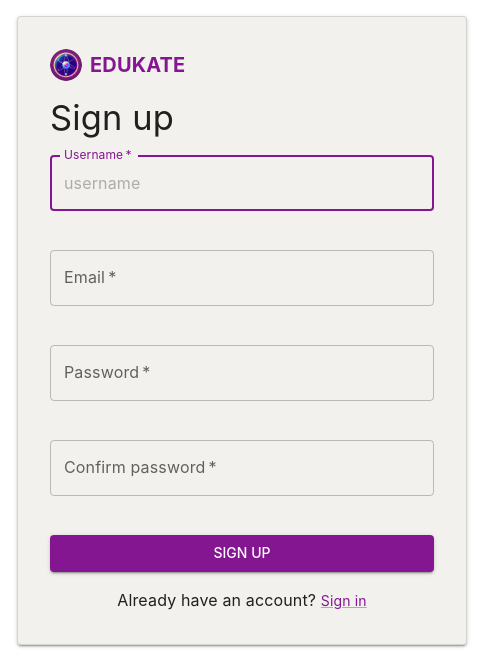
Test: SignUpForm › shows do not match error on submit when passwords differ
Type "alice01" into the field labelled "Username *" at (242, 184), box [50,156,434,212]
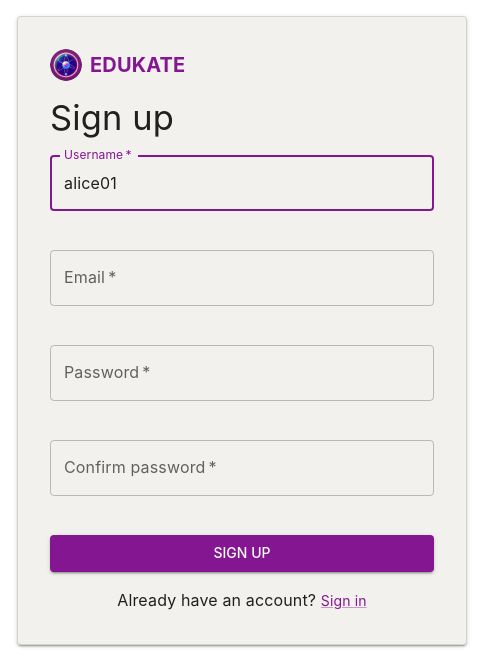
Type "alice@example.com" into the field labelled "Email *" at (242, 278), box [50,250,434,306]
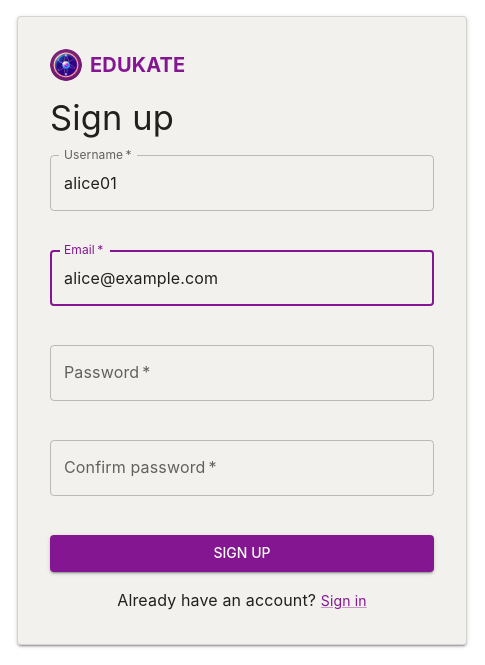
Type "secret123" into the password field labelled "Password *" at (242, 373), box [50,345,434,401]
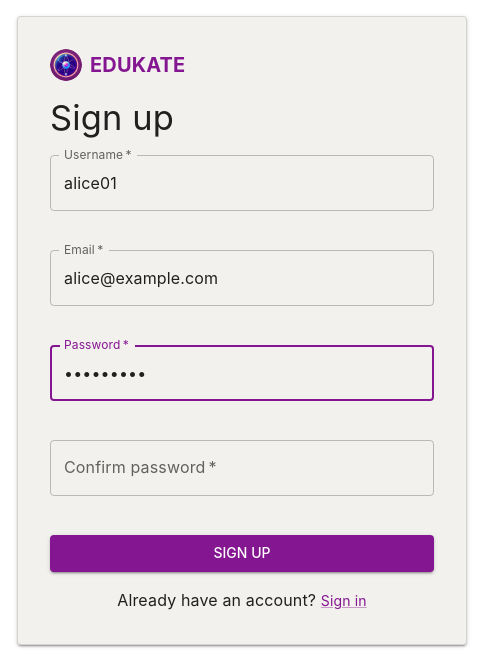
Type "different" into the password field labelled "Confirm password *" at (242, 468), box [50,440,434,496]
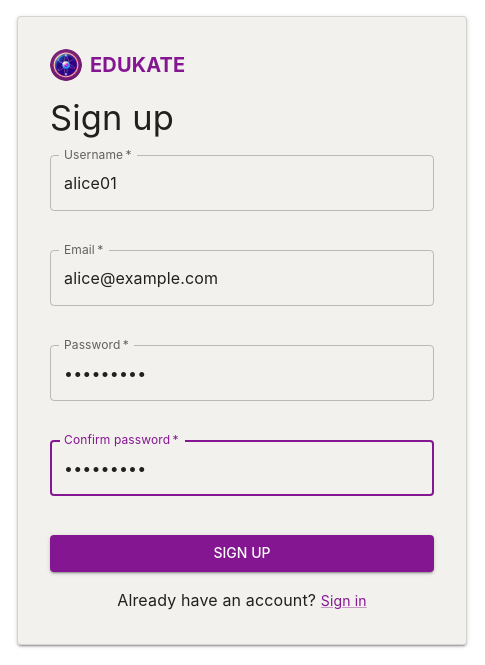
Click the button "Sign up" at (242, 553), box [50,535,434,572]
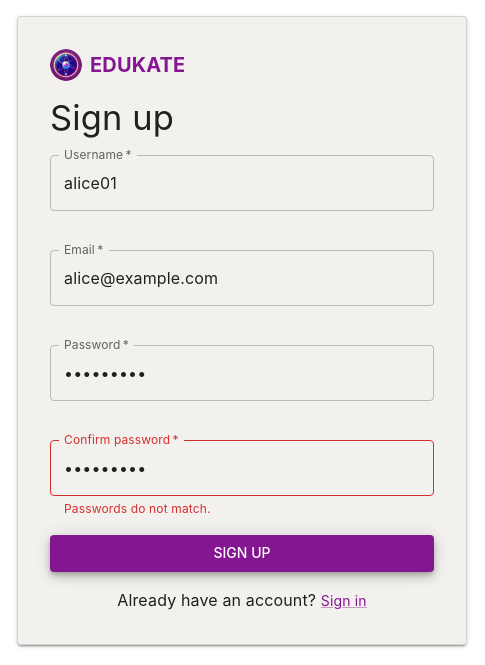
Now the text "Passwords do not match." is shown, box [64,501,211,516]
